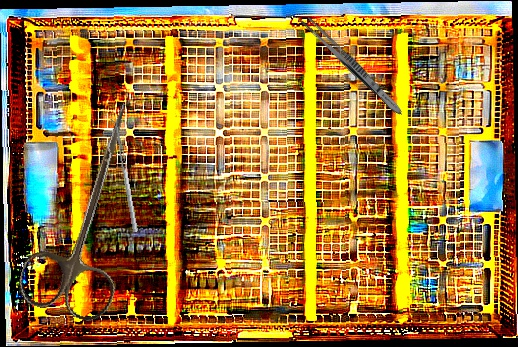Dressing Forceps: (298, 13, 407, 119)
Iris Scissors: (13, 89, 166, 326)
Spatula Surgical: (109, 118, 138, 233)
